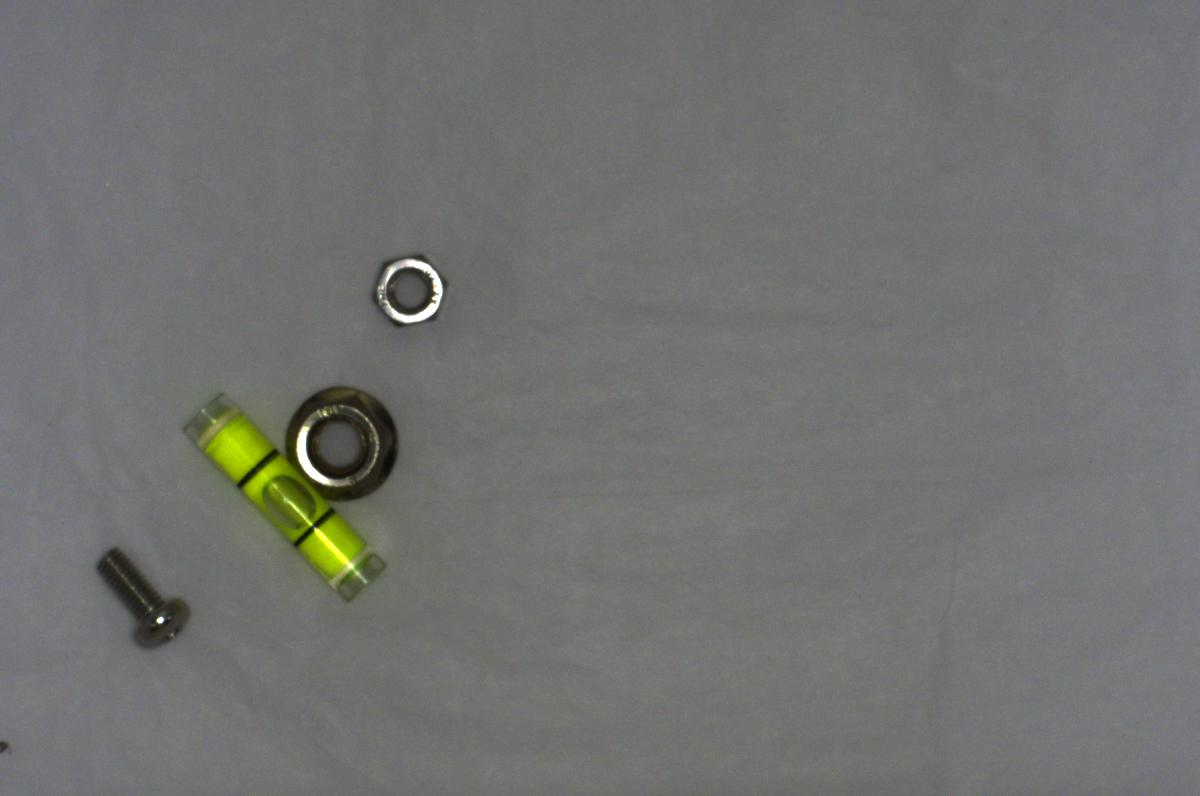Flange nut: (278, 376, 410, 500)
Hexagon nut: (357, 250, 455, 326)
Horizontal bubble: (172, 380, 385, 613)
Round head screw: (86, 540, 199, 662)
